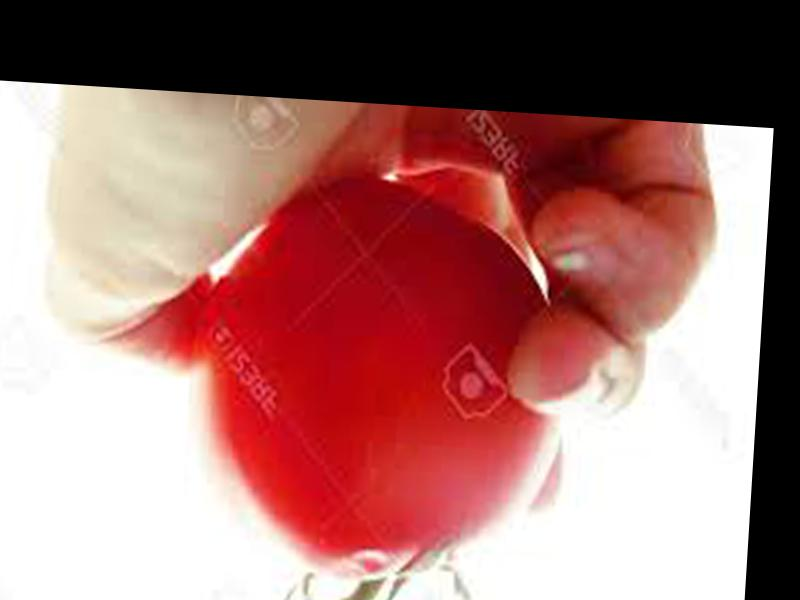Tomato: (184, 174, 577, 596)
